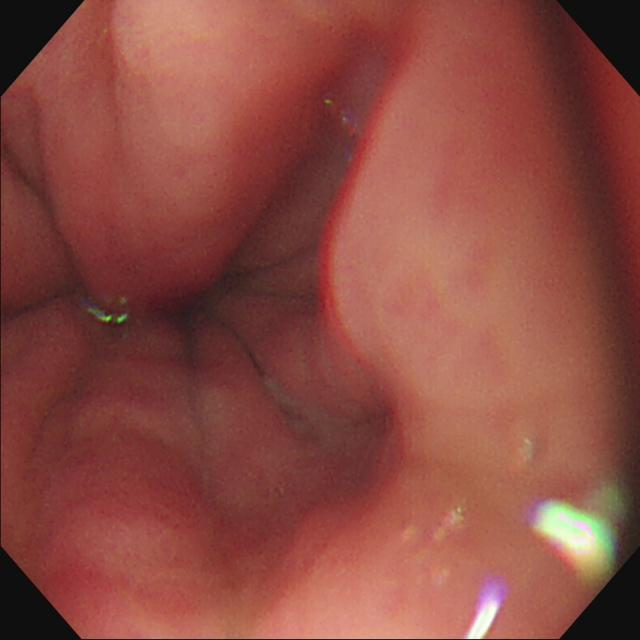U: (530, 482, 631, 583), (463, 578, 503, 640), (86, 296, 142, 327)
